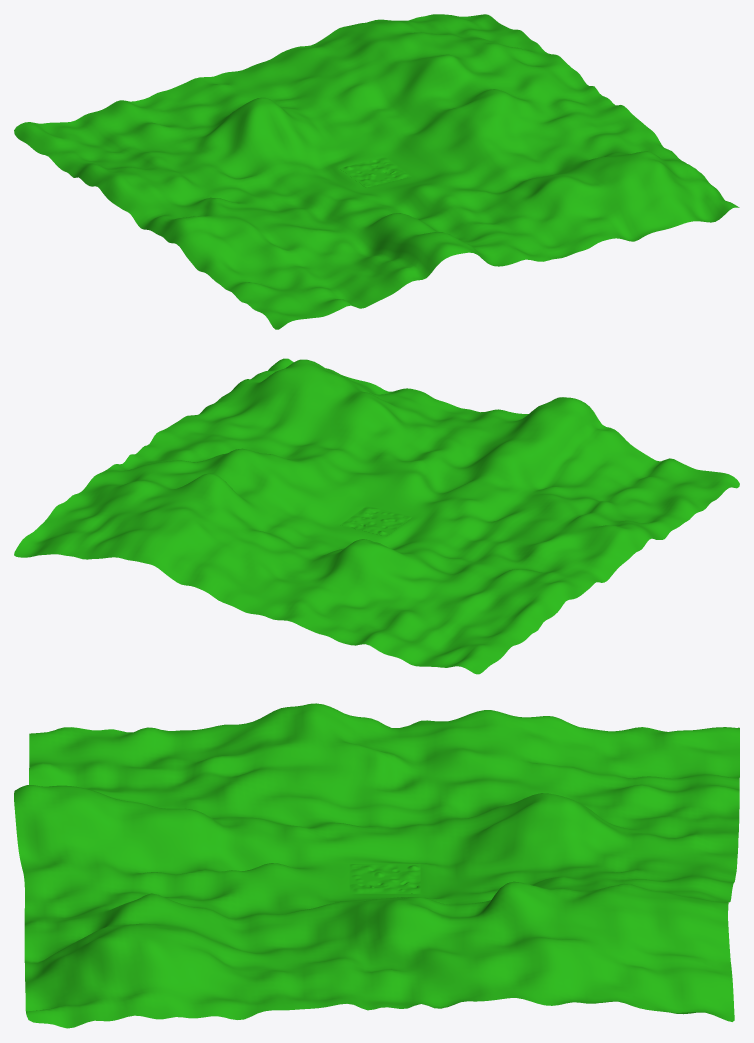
File: Ground.fbx
3 renders of one model, top to bottom at view 1: azimuth 30°, elevation 25°; view 2: azimuth 150°, elevation 25°; view 3: azimuth 270°, elevation 25°, orthographic. The views are drawn at different scales.
Visible parts, largest first — view 1: GroundBack, GroundMain; view 2: GroundBack, GroundMain; view 3: GroundBack, GroundMain.
Part boxes in pixels (bbox=[...]): GroundBack: bbox=[14, 14, 739, 329]; GroundMain: bbox=[340, 157, 411, 187]; GroundBack: bbox=[14, 358, 739, 674]; GroundMain: bbox=[340, 506, 412, 536]; GroundBack: bbox=[14, 703, 739, 1028]; GroundMain: bbox=[349, 864, 420, 893].
Bounding box in the file's own units: 2033998 × 251045 × 2044263.
